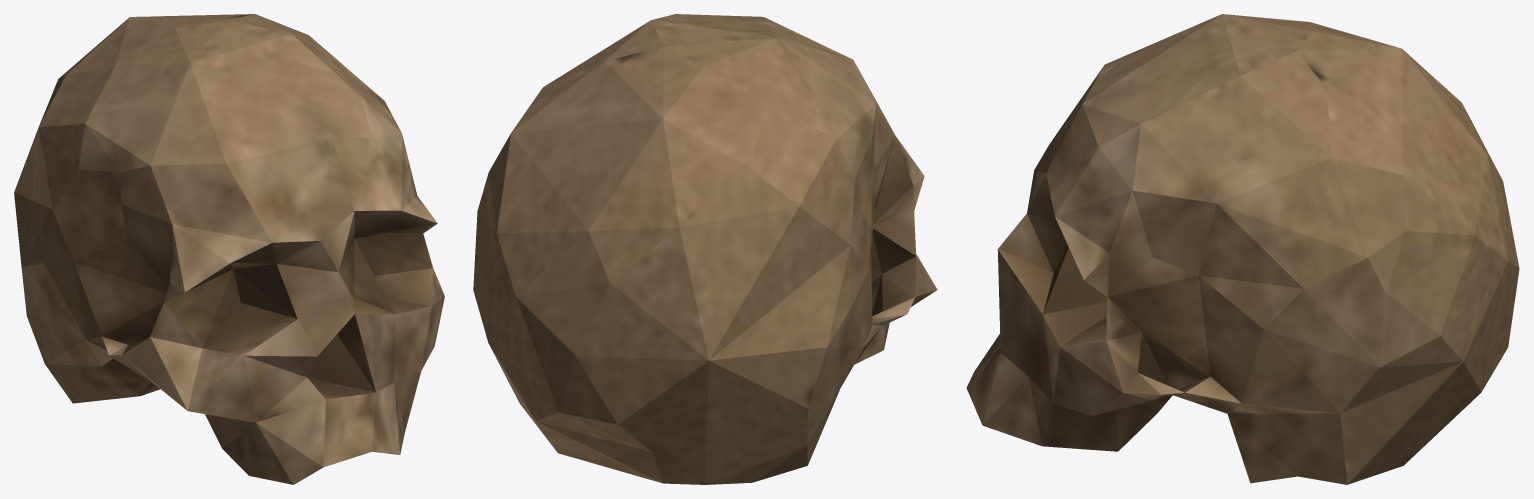
File: prop_skull.glb
3 renders of one model, left to right at view 1: azimuth 30°, elevation 25°; view 2: azimuth 150°, elevation 25°; view 3: azimuth 270°, elevation 25°, orthographic. The views are drawn at different scales.
Parts seen in each view (by area): view 1: lp.obj; view 2: lp.obj; view 3: lp.obj.
Boxes of the visible parts, left/top/right/bottom form: lp.obj: left=14, top=14, right=444, bottom=484; lp.obj: left=473, top=14, right=937, bottom=484; lp.obj: left=966, top=14, right=1519, bottom=484.
Size of the model in its own units: 0.1416 by 0.1522 by 0.1966.
Materials: 1 (1 with a texture image).
